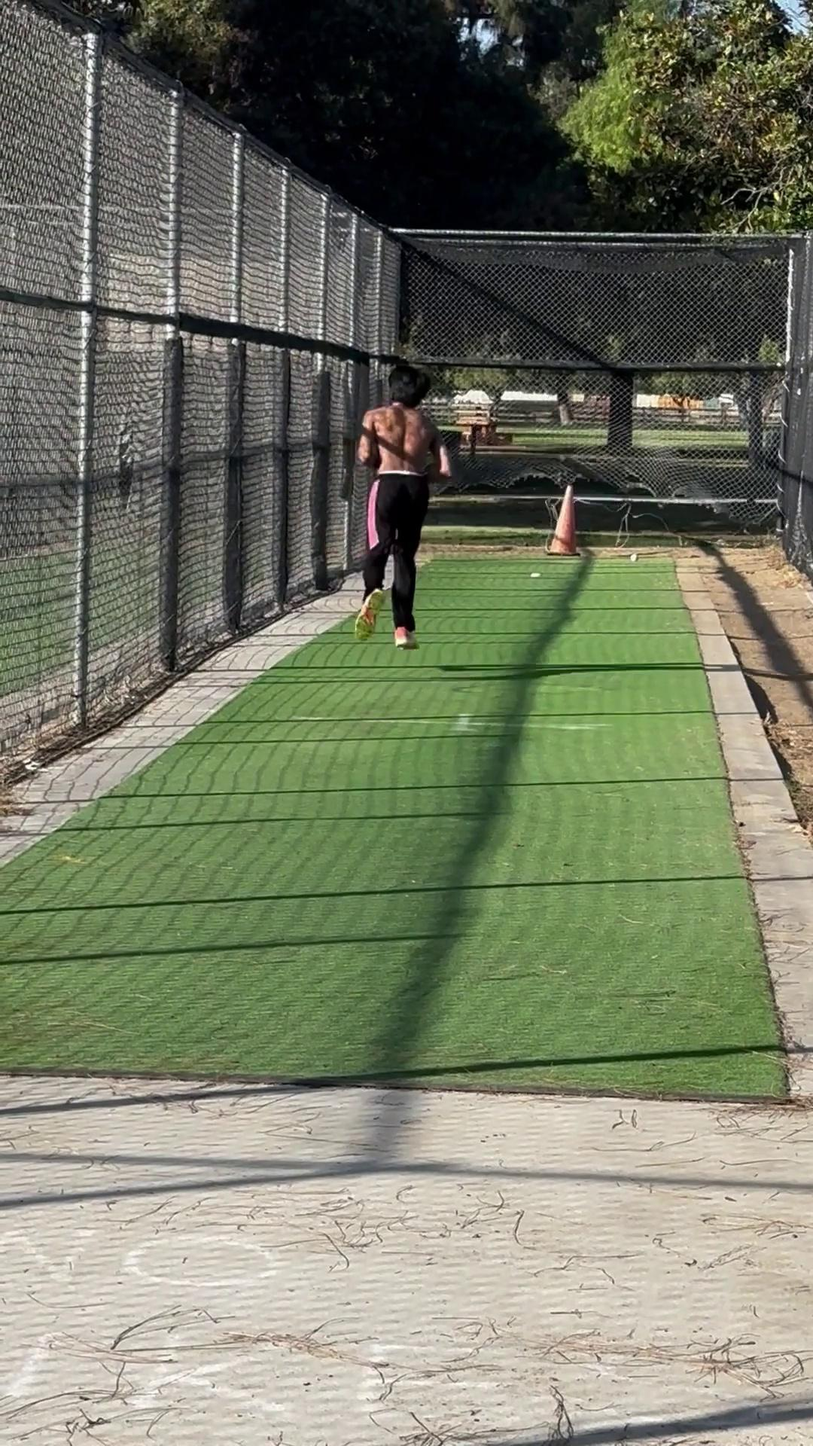ball: (556, 452, 568, 463)
